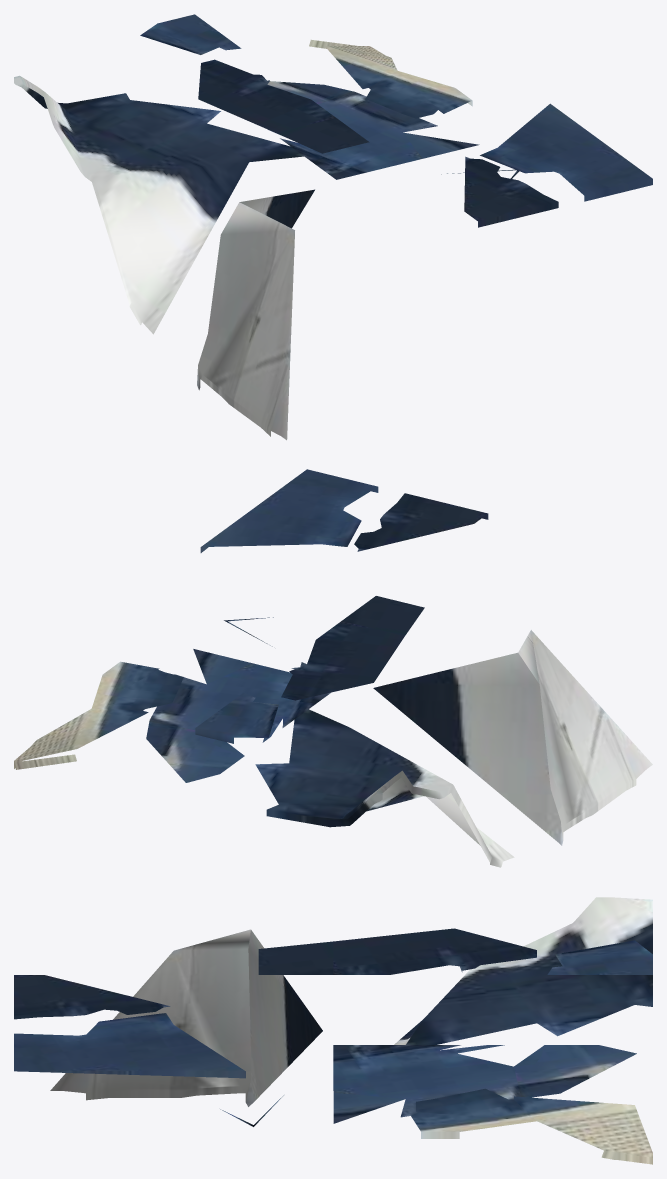
The picture shows the model from 3 angles, top to bottom: view 1: azimuth 30°, elevation 25°; view 2: azimuth 150°, elevation 25°; view 3: azimuth 270°, elevation 25°; orthographic projection. The views are drawn at different scales.
Parts seen in each view (by area): view 1: 30436272704370425633_1; view 2: 30436272704370425633_1; view 3: 30436272704370425633_1.
Part boxes in pixels (x1=…): 30436272704370425633_1: x1=14, y1=14, x2=652, y2=440; 30436272704370425633_1: x1=14, y1=469, x2=652, y2=867; 30436272704370425633_1: x1=14, y1=897, x2=652, y2=1164.
Bounding box in the file's own units: 27.78 × 15.26 × 38.26.
Materials: 1 (1 with a texture image).
